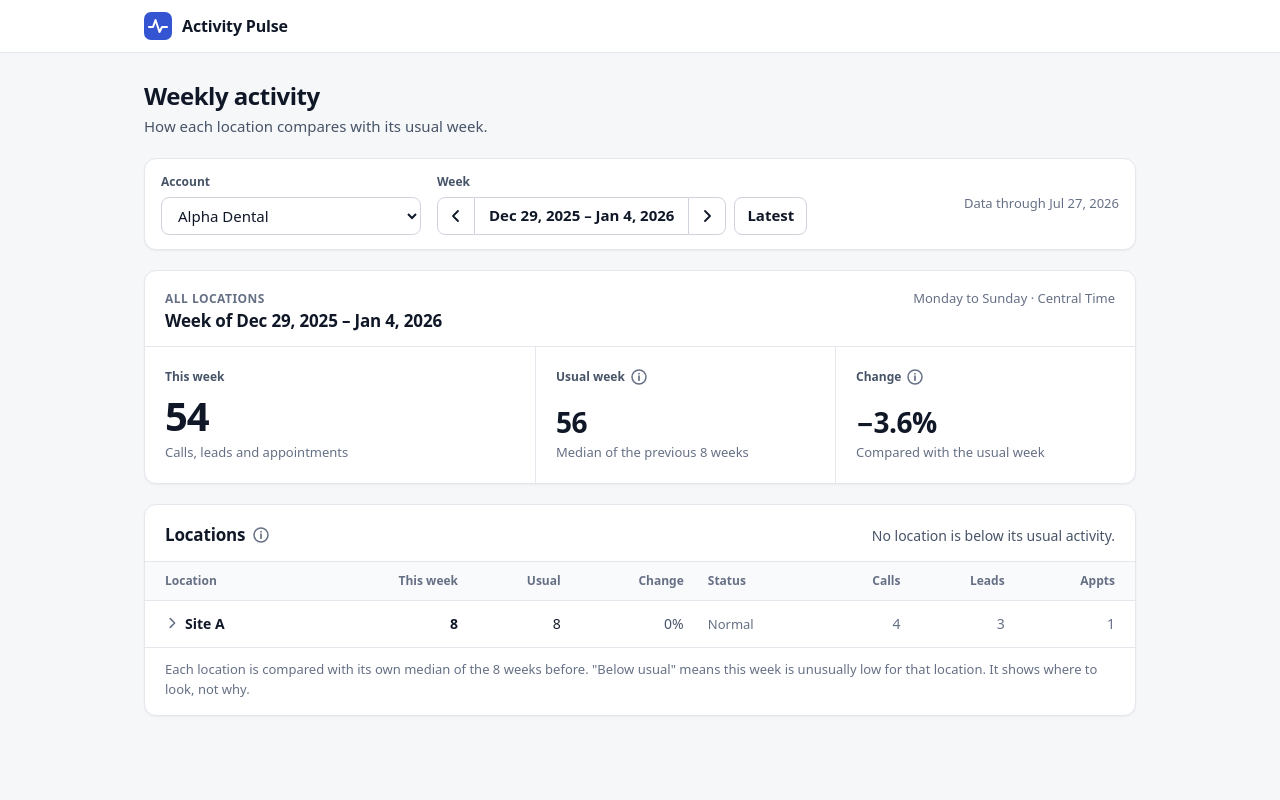
Test: week navigation › crosses a year boundary
Expected: the heading "Week of Dec 29, 2025 – Jan 4, 2026" is shown, [165,310,442,332]
Click the button named "Next week".
click(707, 216)  # box [688,196,726,234]
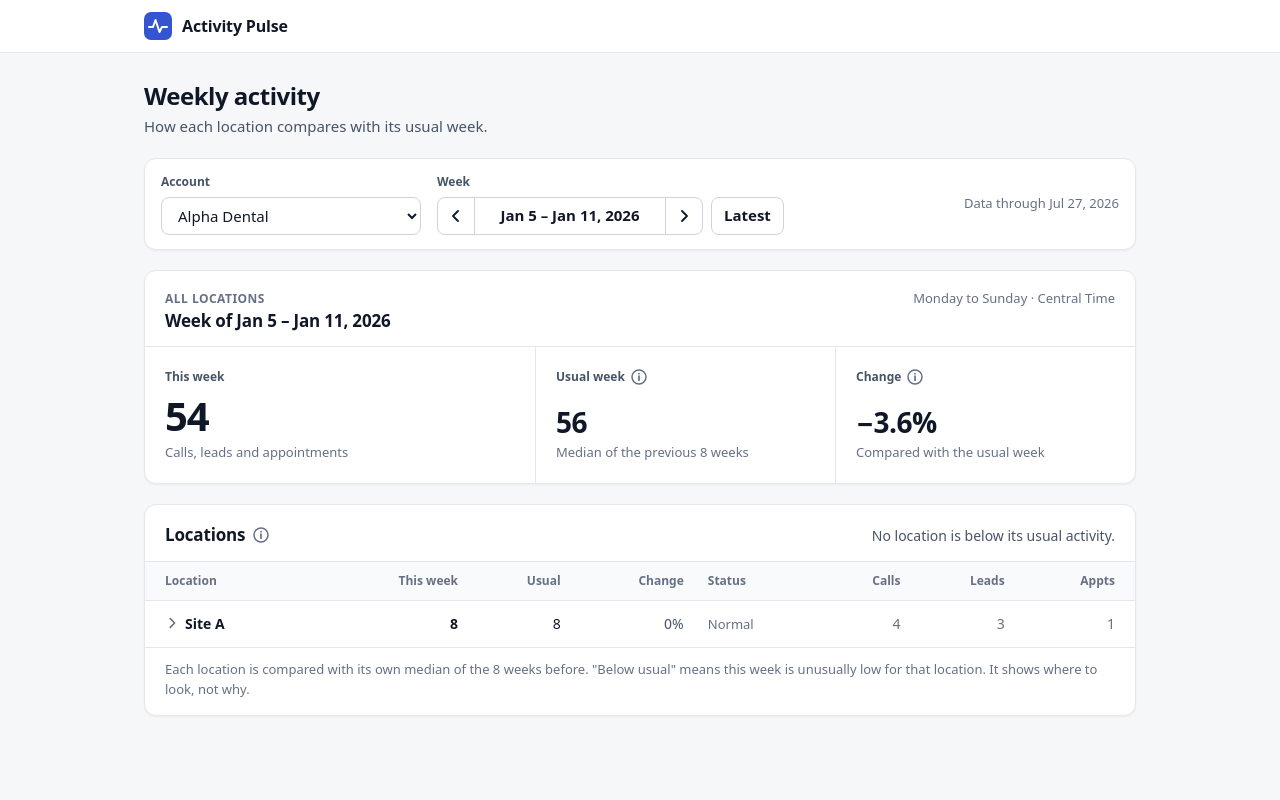
Expected: the heading "Week of Jan 5 – Jan 11, 2026" is shown, [165,310,391,332]
